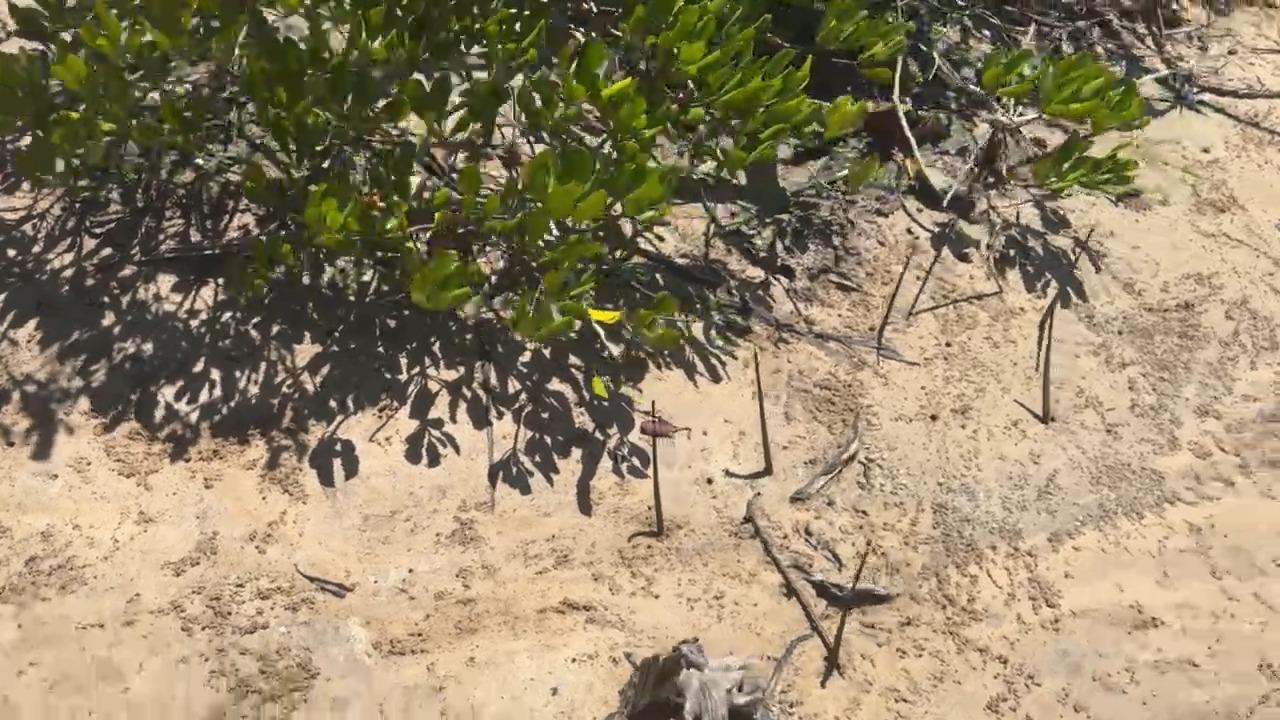Tree: (1038, 227, 1095, 328), (824, 548, 868, 672), (952, 212, 1005, 293), (752, 346, 774, 475), (875, 258, 908, 338), (649, 399, 665, 537), (1041, 303, 1055, 425)
